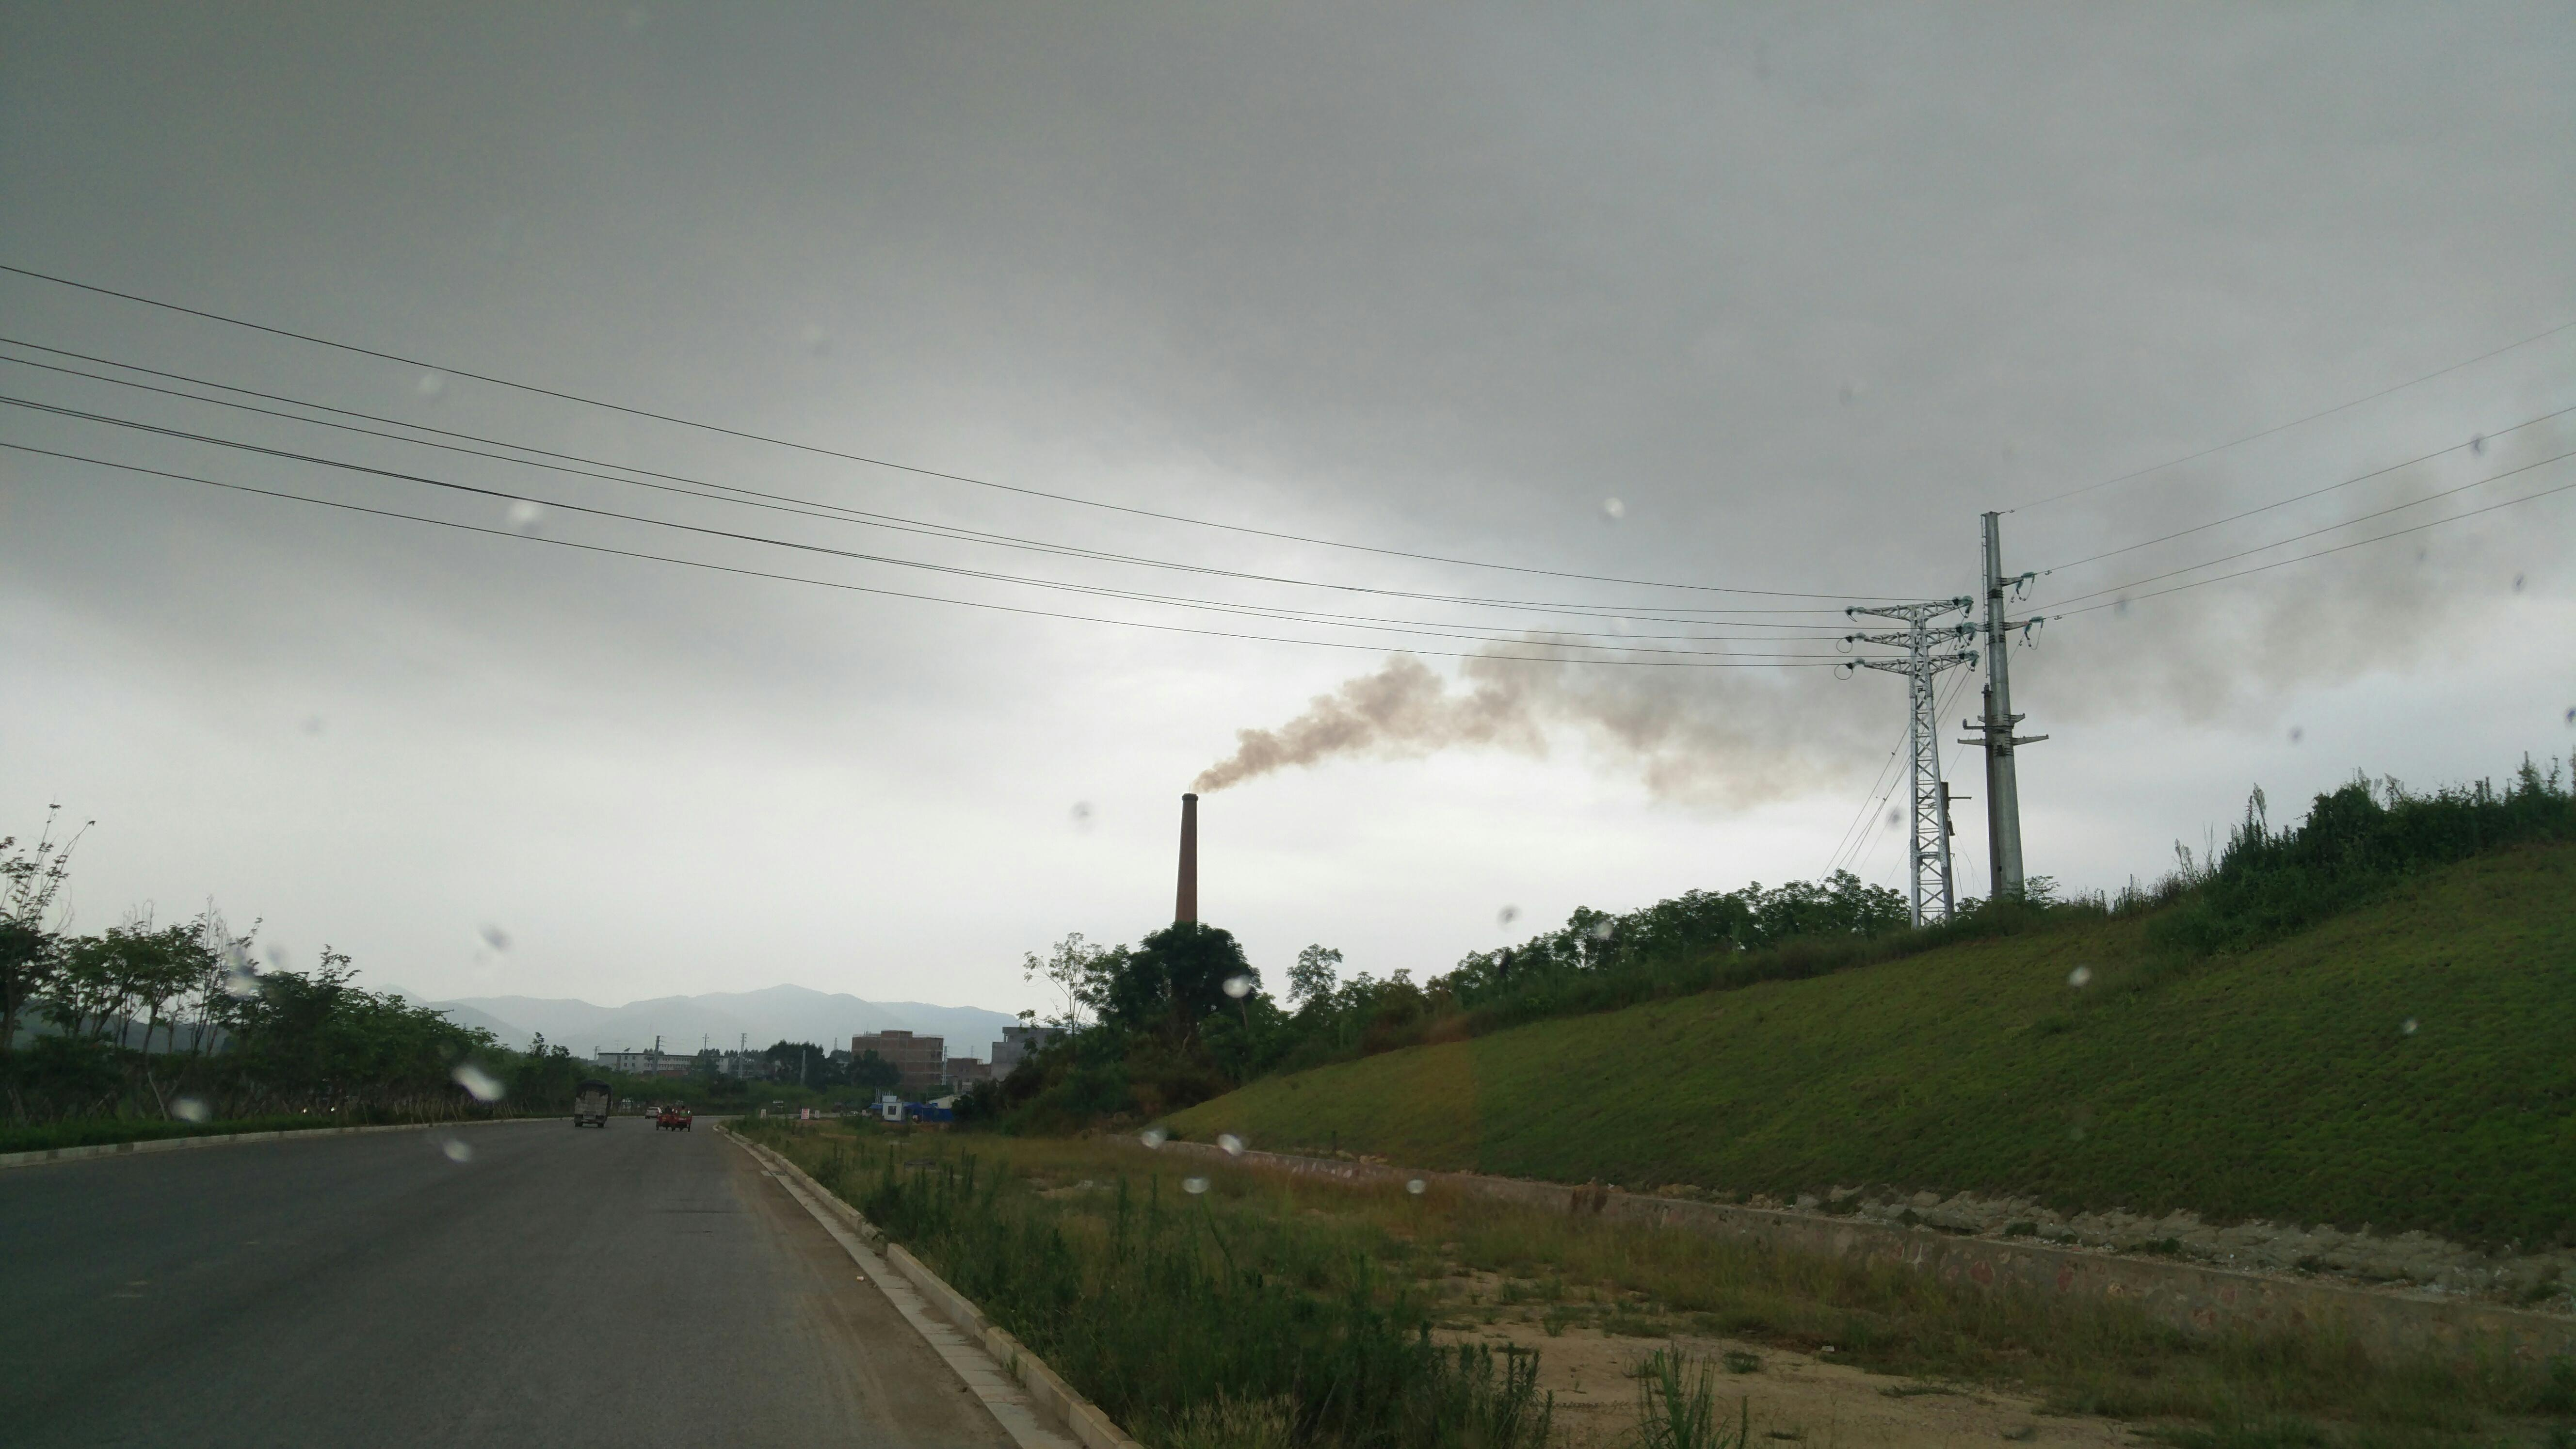dust: (1155, 632, 1644, 817)
